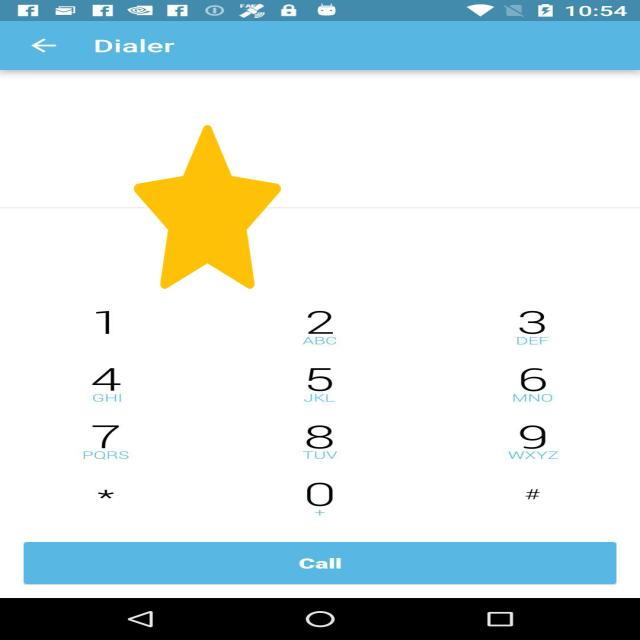forced continuity: (134, 125, 281, 289)
